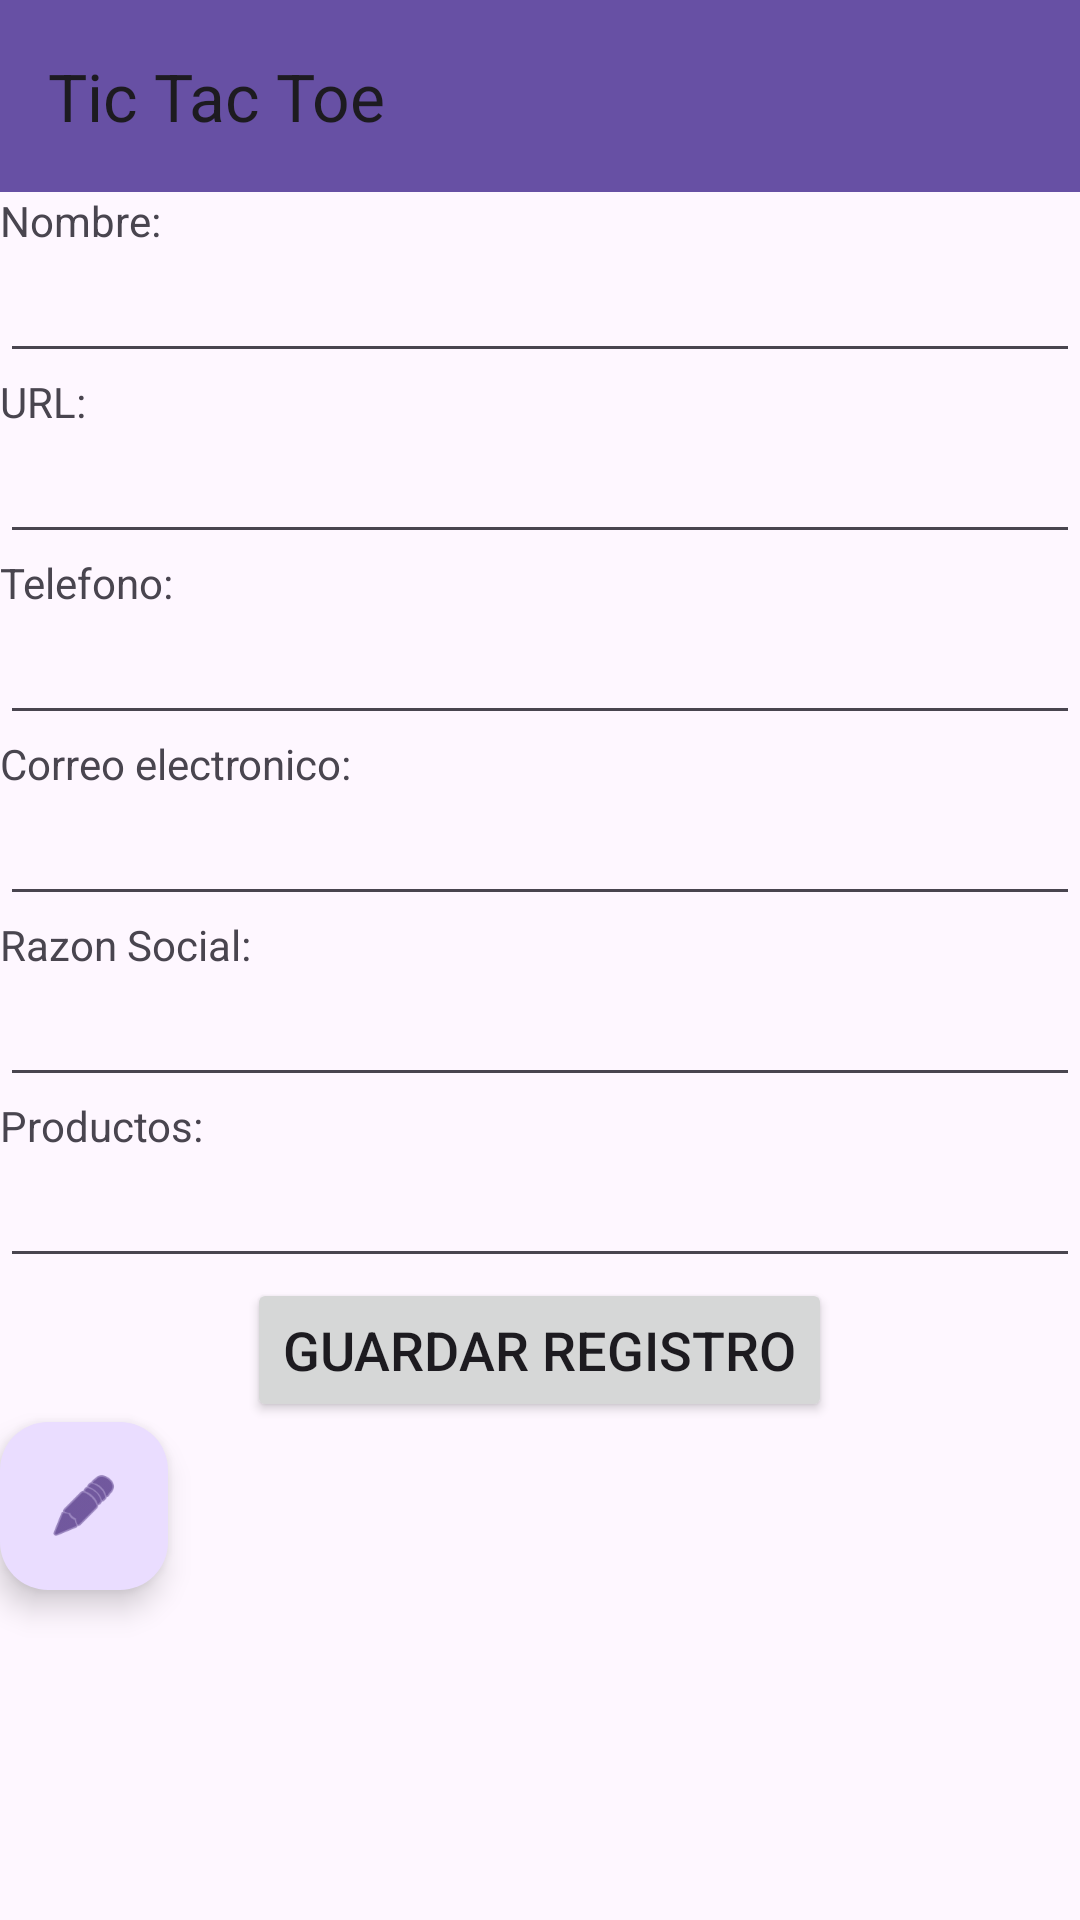

Point at icon controls on the screen. Image size 1080px×1920px, points as (x=x, y=y).
edit: (x=84, y=1506)
